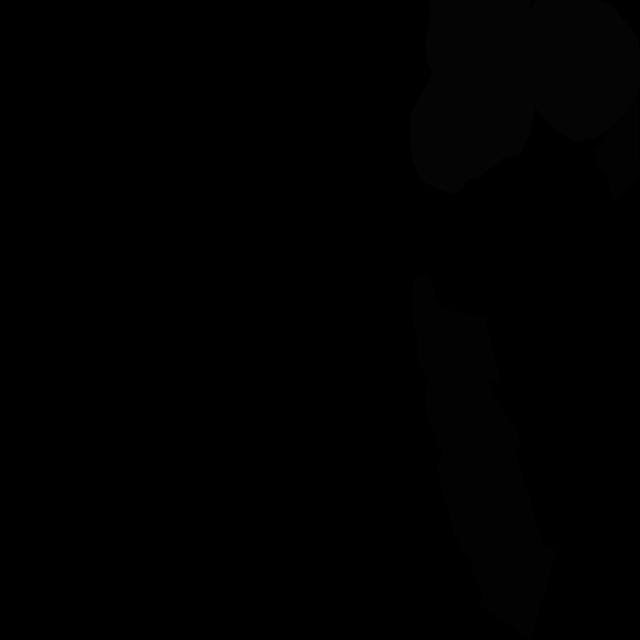cardboard: (412, 272, 520, 559), (471, 452, 561, 640), (593, 90, 640, 202)
soft_plastic: (409, 0, 558, 193), (530, 0, 640, 143)
